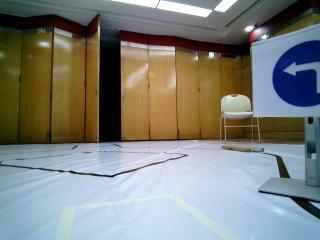left: (255, 37, 320, 114)
